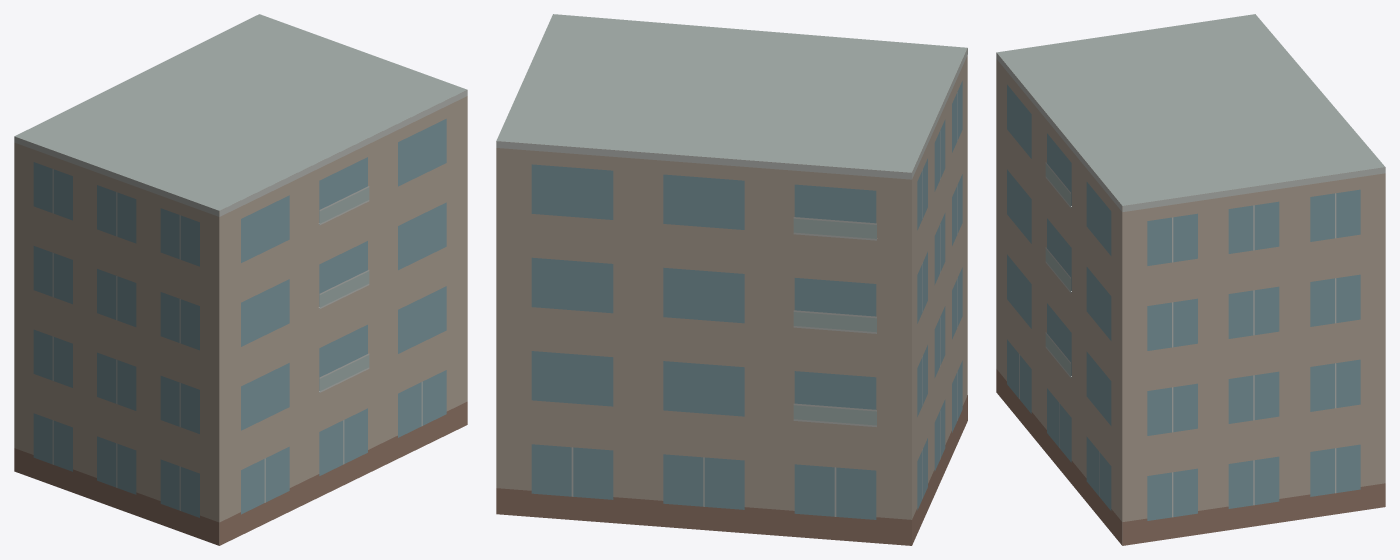
The model's file is survey-upis-32953003.glb.
3 views of the same model, side by side, from view 1: azimuth 30°, elevation 25°; view 2: azimuth 150°, elevation 25°; view 3: azimuth 270°, elevation 25° (orthographic). The views are drawn at different scales.
Visible parts, largest first — view 1: survey-upis-32953003.tmp; view 2: survey-upis-32953003.tmp; view 3: survey-upis-32953003.tmp.
Part boxes in pixels (x1=…): survey-upis-32953003.tmp: x1=14, y1=14, x2=467, y2=545; survey-upis-32953003.tmp: x1=496, y1=14, x2=967, y2=545; survey-upis-32953003.tmp: x1=996, y1=14, x2=1385, y2=545.
Bounding box in the file's own units: 16.18 × 13.35 × 13.86.
